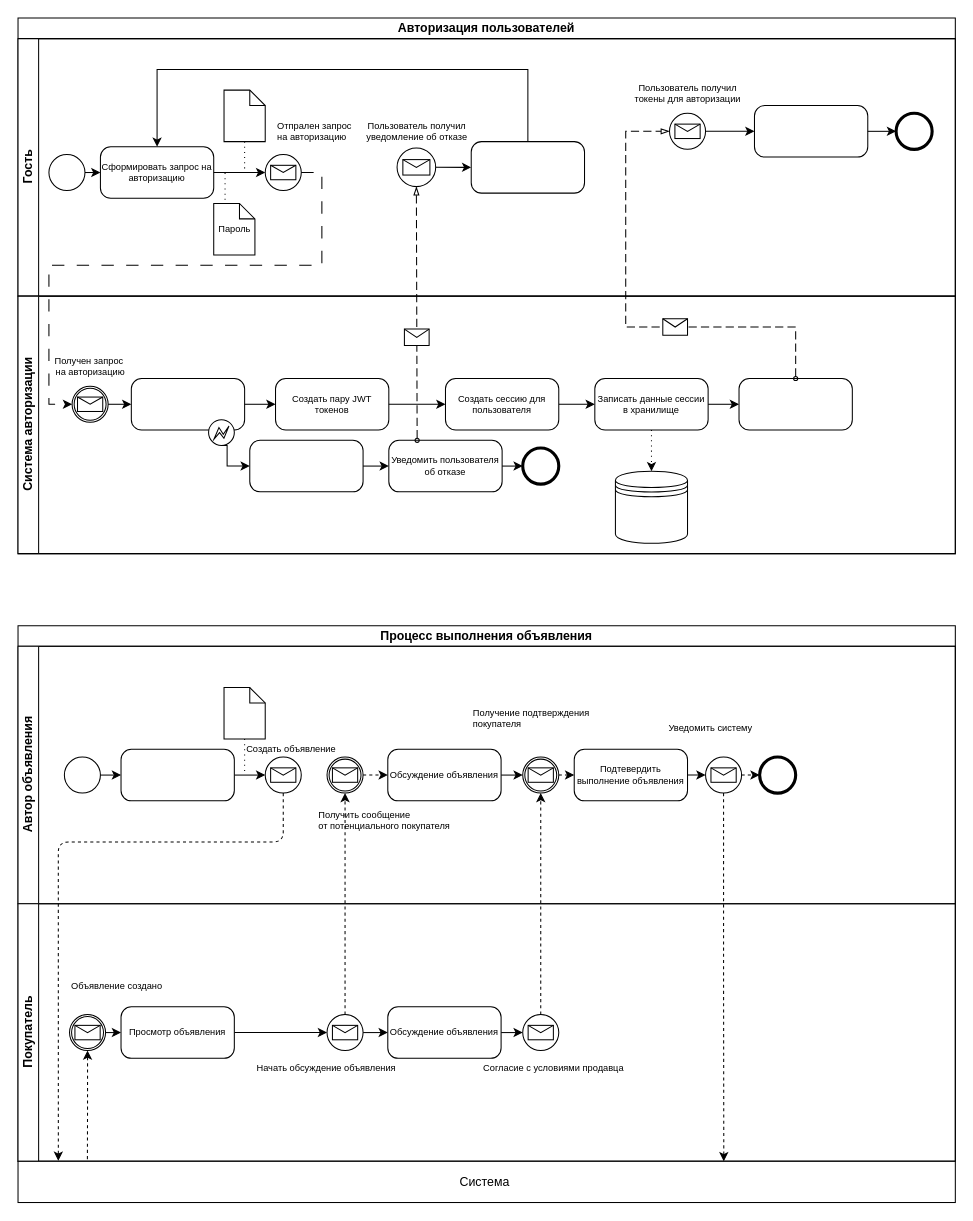
Some shapes in this 973 by 1221 pixel diagram are drawn without their labels. The centre of each missing label's shape, as x and y in pixels:
"Запросить ресурс" goes at pixel 810 131.
"Логин" goes at pixel 244 115.
"Отказать в авторизации" goes at pixel 306 465.
"Передать токены пользователю" goes at pixel 795 403.
"Повторить попытку авторизации" goes at pixel 527 167.
"Проверить данные авторизации" goes at pixel 187 403.
"Содержание объявления" goes at pixel 244 712.
"Сформировать объявление" goes at pixel 177 774.
"Хранилище" goes at pixel 651 506.
